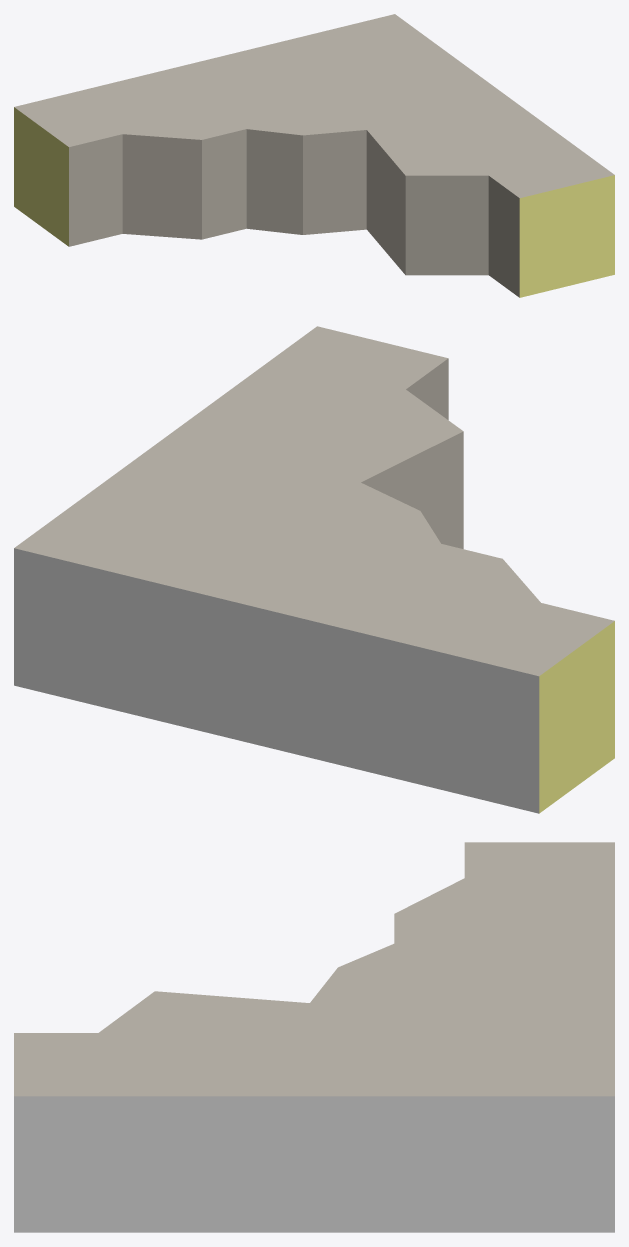
File: Cracked_Curve_Inner_4x4_2_Mid.glb
3 renders of one model, top to bottom at view 1: azimuth 30°, elevation 25°; view 2: azimuth 150°, elevation 25°; view 3: azimuth 270°, elevation 25°, orthographic. The views are drawn at different scales.
Parts seen in each view (by area): view 1: Cracked_Curve_Inner_4x4_2_Mid; view 2: Cracked_Curve_Inner_4x4_2_Mid; view 3: Cracked_Curve_Inner_4x4_2_Mid.
Boxes of the visible parts, <box> form: Cracked_Curve_Inner_4x4_2_Mid: <box>14,14,614,297</box>; Cracked_Curve_Inner_4x4_2_Mid: <box>14,326,614,813</box>; Cracked_Curve_Inner_4x4_2_Mid: <box>14,842,614,1232</box>.
Bounding box in the file's own units: 400 × 100 × 400.
